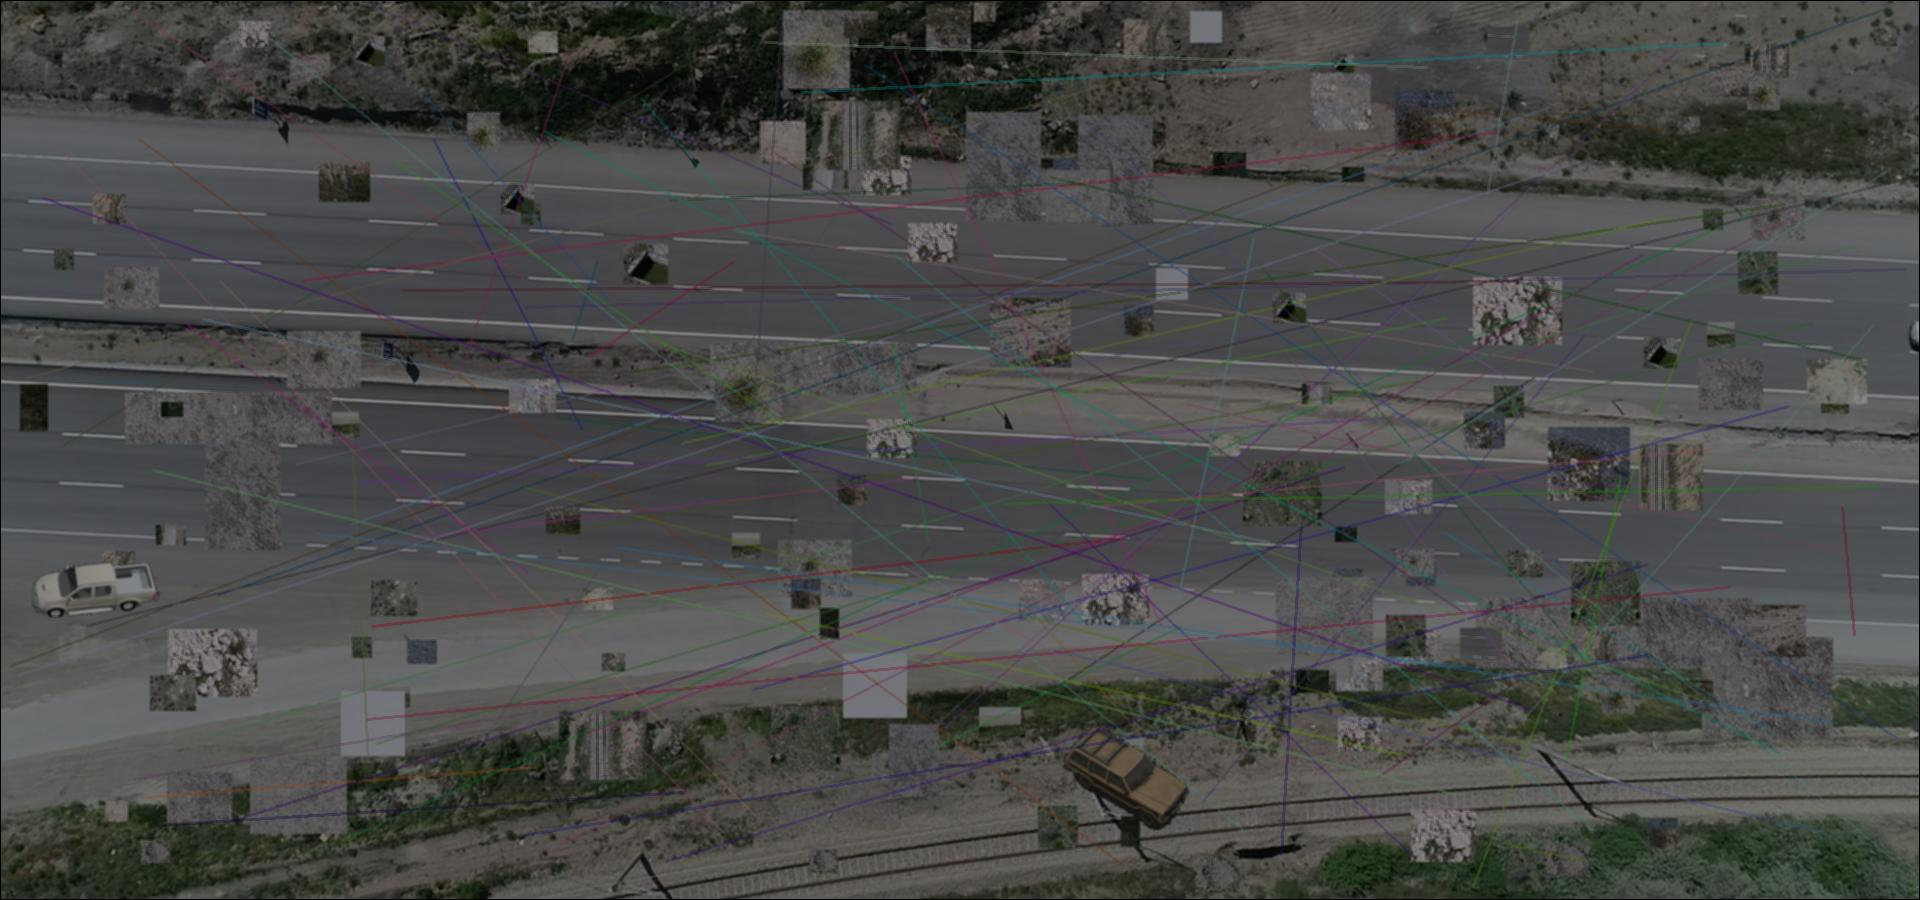arac: (1063, 721, 1193, 831), (32, 556, 160, 617)
